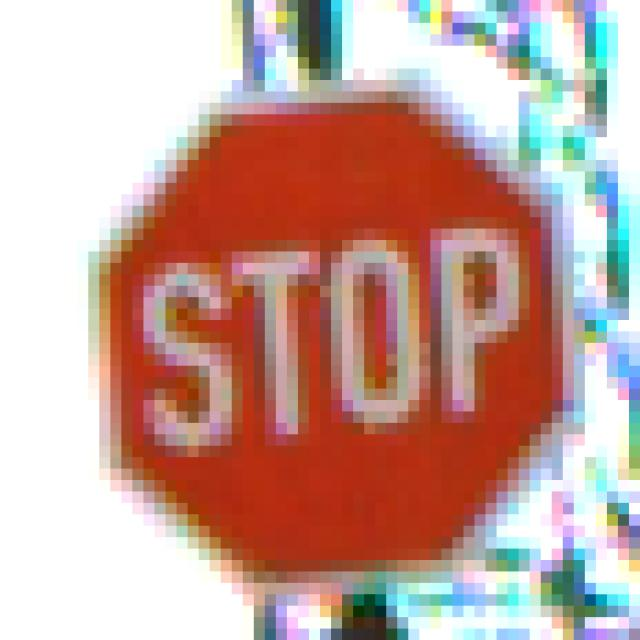STOP: (67, 58, 575, 584)
